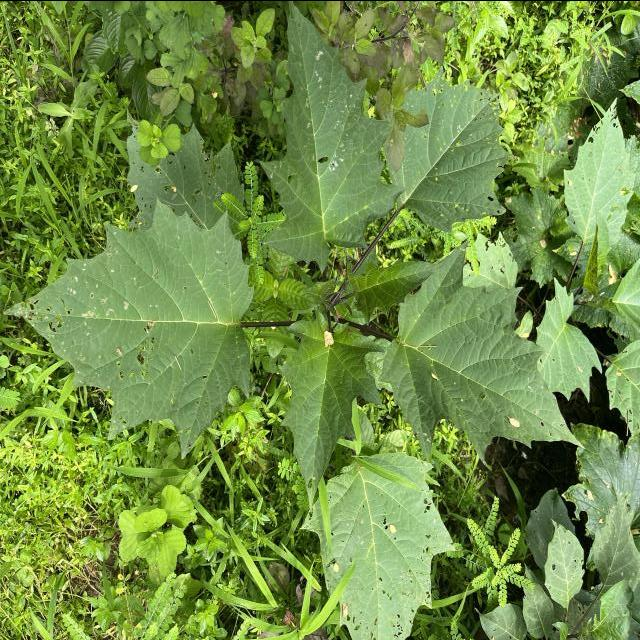Datura metal linn: (0, 194, 259, 462), (377, 234, 589, 466), (257, 0, 410, 277), (298, 447, 460, 640), (276, 302, 388, 516), (382, 62, 517, 236), (561, 94, 639, 250), (533, 274, 604, 406), (345, 256, 449, 327), (541, 514, 587, 610), (580, 200, 614, 302)
